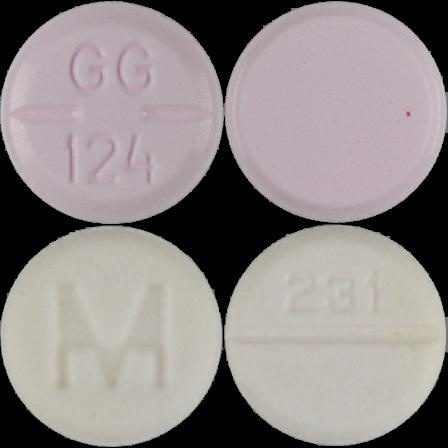55154-5429: (0, 0, 224, 224)
